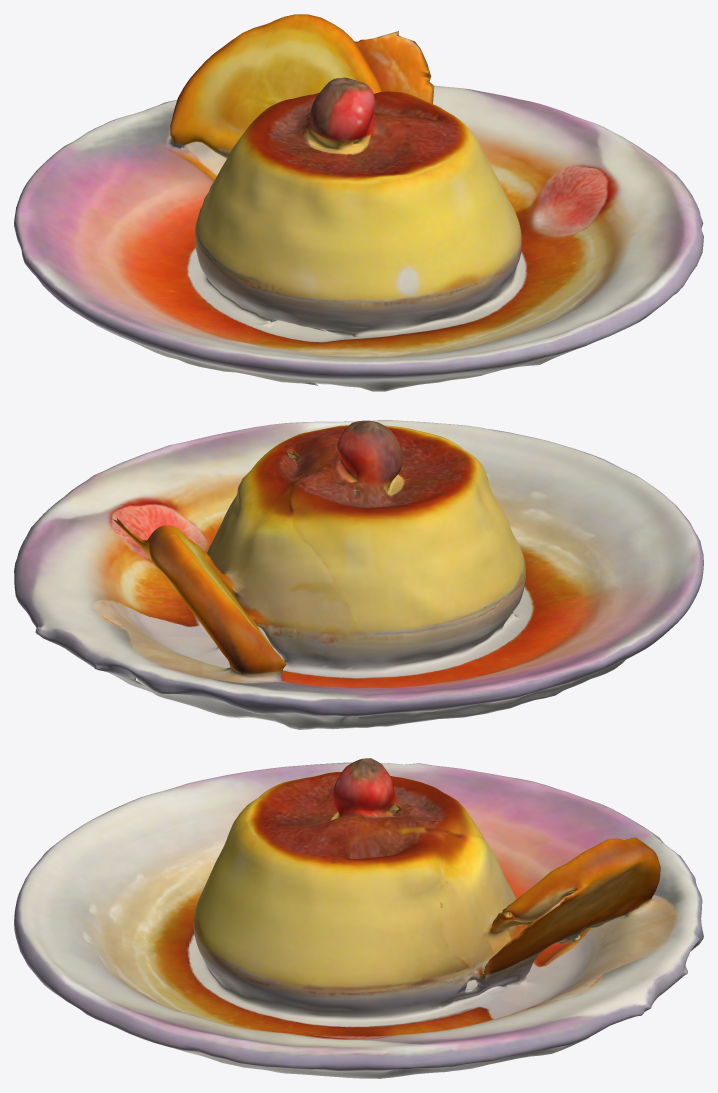
Rendered from Flan.glb.
3 renders of one model, top to bottom at view 1: azimuth 30°, elevation 25°; view 2: azimuth 150°, elevation 25°; view 3: azimuth 270°, elevation 25°, orthographic.
Size of the model in its own units: 1.98 by 0.6361 by 1.99.
1 material, 1 textured.
